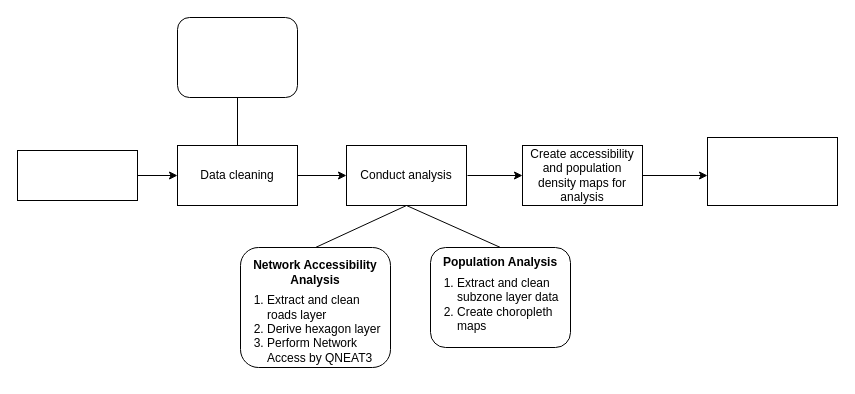
This 855x394 diagram has some shape labels left out. Each missing label, with the centre of its shape:
Data collection: point (77, 175)
Split schools by before and after school mergers and closures in 2021: point (237, 57)
Write up analysis based on accessibility and population density maps created: point (772, 171)
